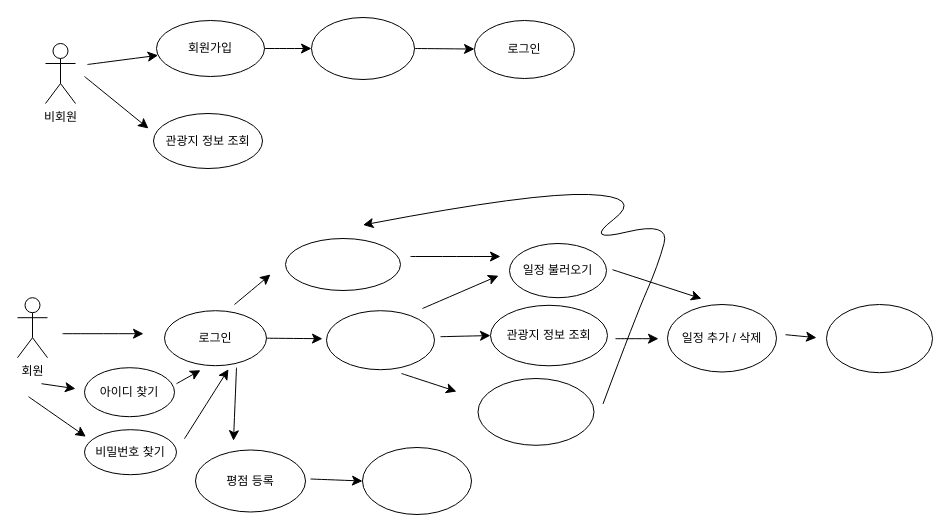
This 952x532 diagram has some shape labels left out. The centre of each missing label's shape, as x and y in pixels:
관광지 후기 등록: the point at 417,480
여행 일정 공유: the point at 879,338
여행 일정 생성: the point at 380,340
여행 일정 저장: the point at 535,411
여행 일정 조회: the point at 342,264
회원 정보 입력: the point at 362,48
